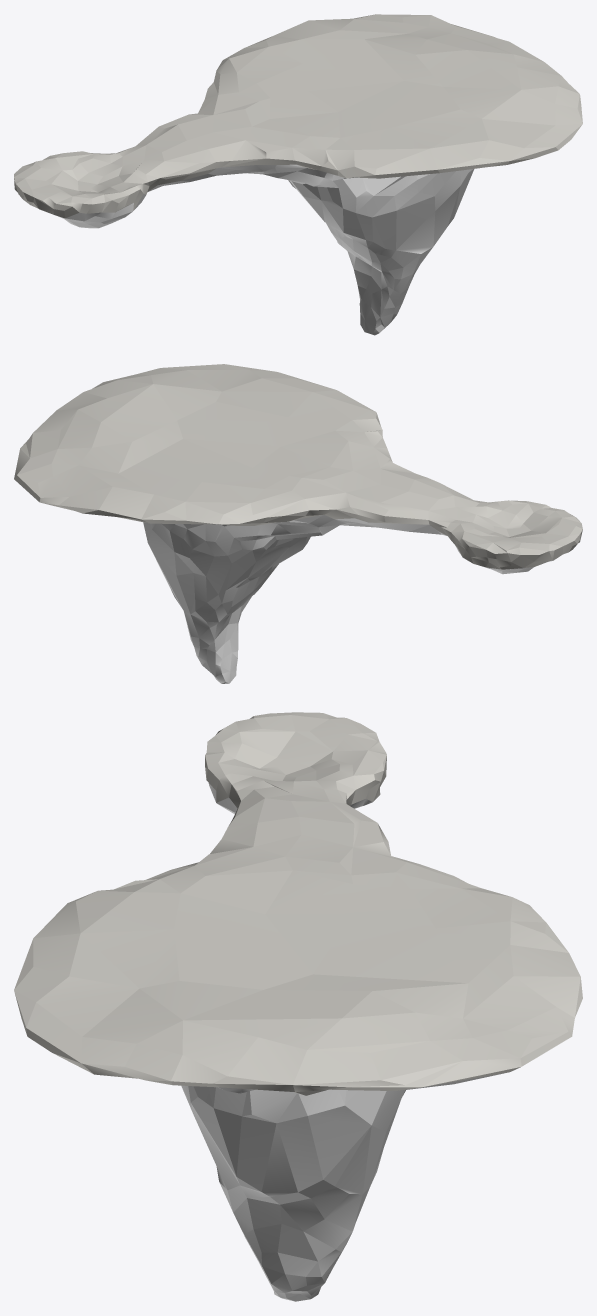
The model's file is christmasIslandDual.dae.
3 renders of one model, top to bottom at view 1: azimuth 30°, elevation 25°; view 2: azimuth 150°, elevation 25°; view 3: azimuth 270°, elevation 25°, orthographic. The views are drawn at different scales.
Visible parts, largest first — view 1: base.001_Baked; view 2: base.001_Baked; view 3: base.001_Baked.
Boxes of the visible parts, x1,y1,x2,y2 form: base.001_Baked: [14, 14, 582, 335]; base.001_Baked: [14, 364, 582, 683]; base.001_Baked: [14, 712, 582, 1301].
Size of the model in its own units: 15.67 by 9.98 by 7.02.
Materials: 2 (1 with a texture image).
